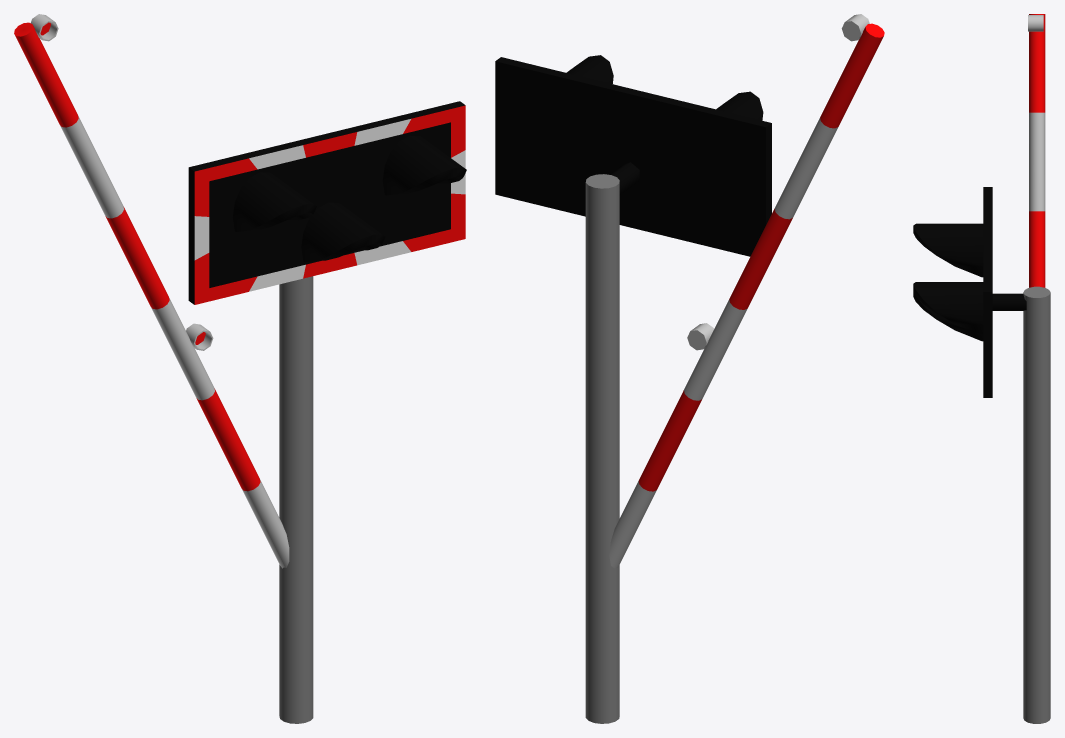
The model's file is directRight.fbx.
3 views of the same model, side by side, from view 1: azimuth 30°, elevation 25°; view 2: azimuth 150°, elevation 25°; view 3: azimuth 270°, elevation 25° (orthographic). The views are drawn at different scales.
Parts seen in each view (by area): view 1: directRight, up.Right; view 2: directRight, up.Right; view 3: directRight, up.Right.
Boxes of the visible parts, x1,y1,x2,y2 form: directRight: (188, 101, 466, 723); up.Right: (14, 14, 289, 568); directRight: (495, 55, 771, 723); up.Right: (609, 14, 884, 568); directRight: (913, 187, 1050, 723); up.Right: (1028, 14, 1045, 287).
Size of the model in its own units: 456 by 796 by 164.
